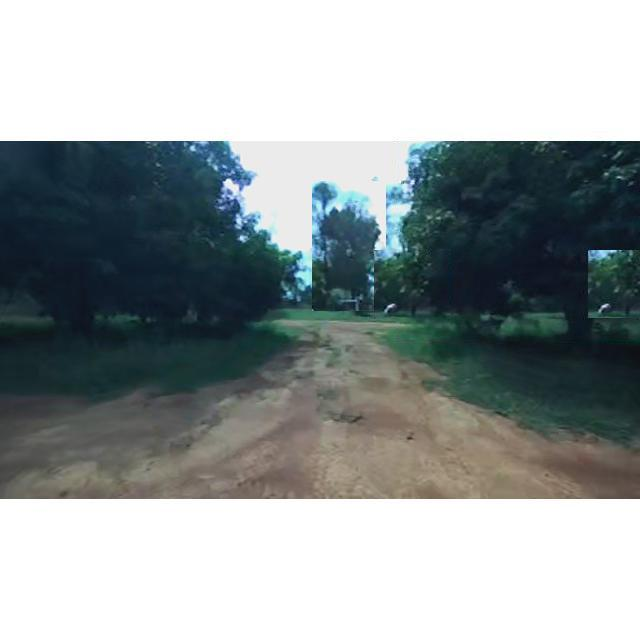direk: (1, 142, 286, 358), (398, 142, 640, 342), (312, 181, 386, 311), (374, 250, 450, 318)
